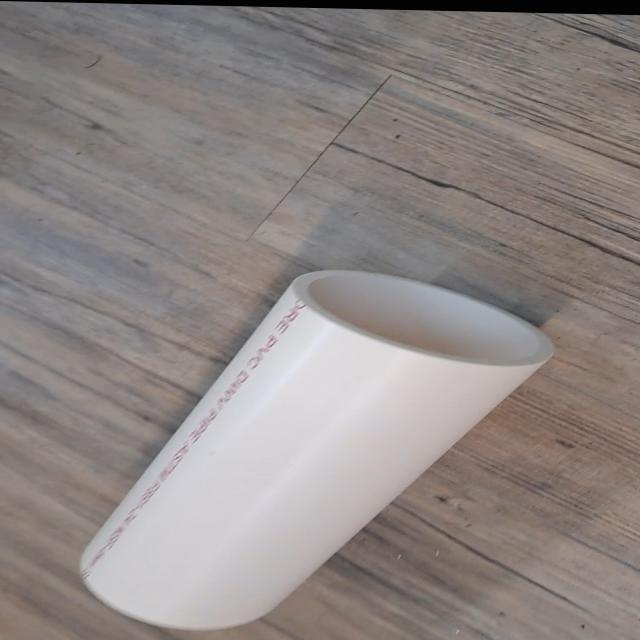CORAL: (70, 257, 568, 640)
